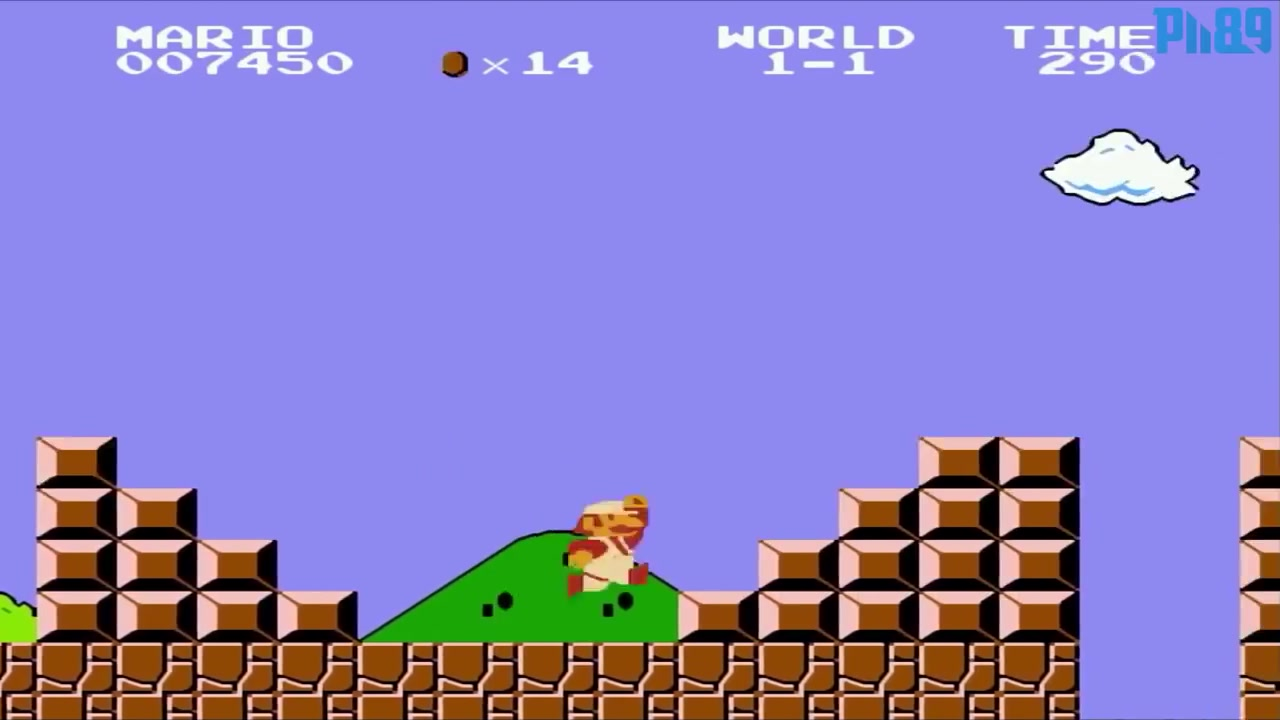mario: (548, 483, 654, 599)
